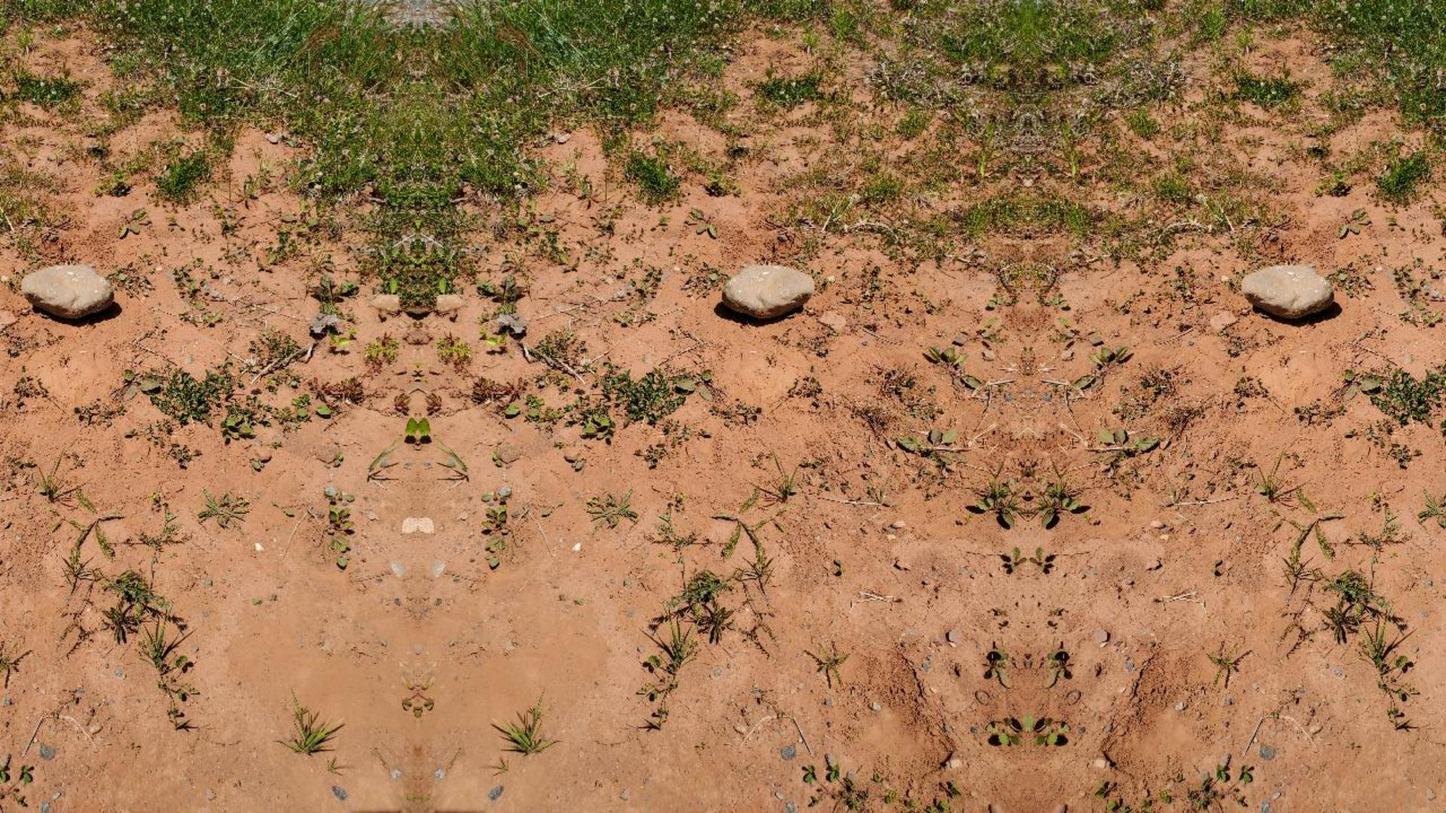rock: (722, 265, 813, 320), (21, 265, 113, 318), (1242, 265, 1333, 318)
